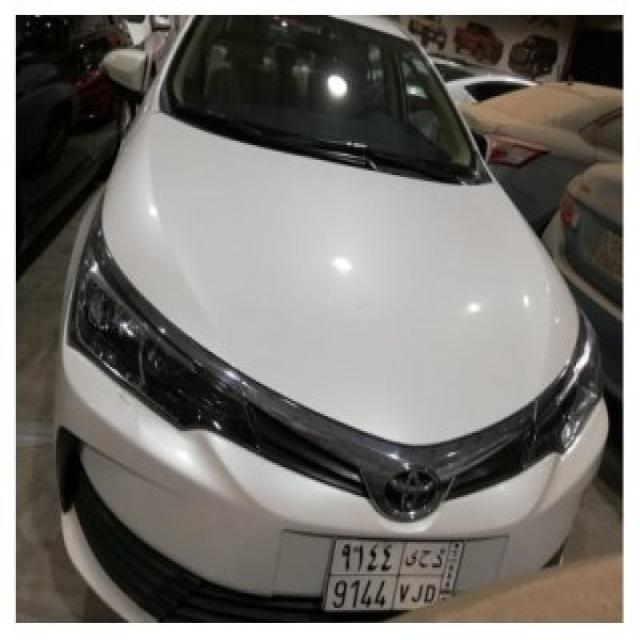license_plate: (320, 536, 467, 614)
